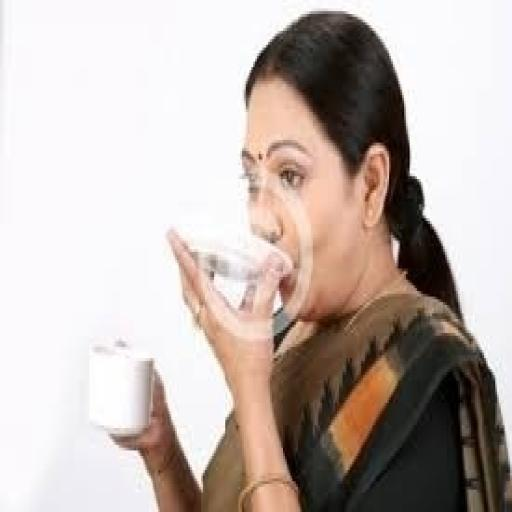drinking: (173, 218, 294, 336), (88, 336, 154, 439)
